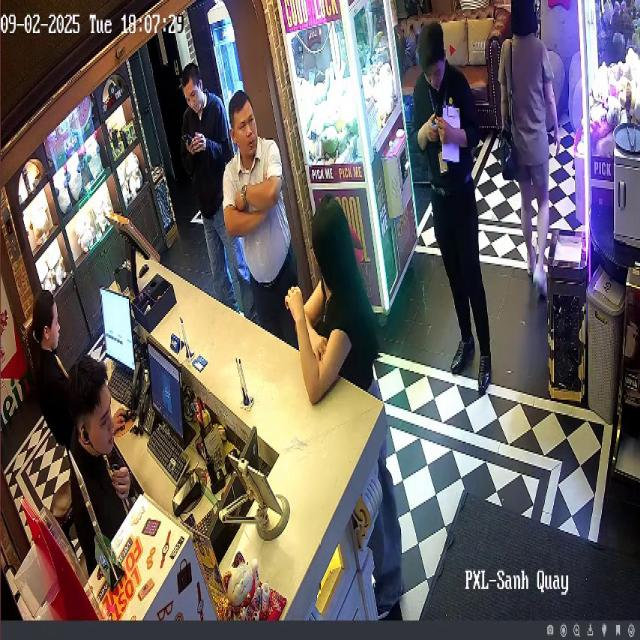khach: (284, 162, 386, 431), (499, 0, 568, 330), (225, 77, 300, 358), (174, 52, 242, 355)
nhan vien: (411, 17, 506, 426), (65, 338, 138, 576), (24, 278, 80, 488)
